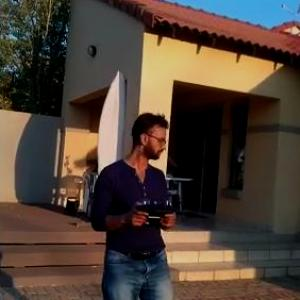follow: (94, 112, 180, 299)
